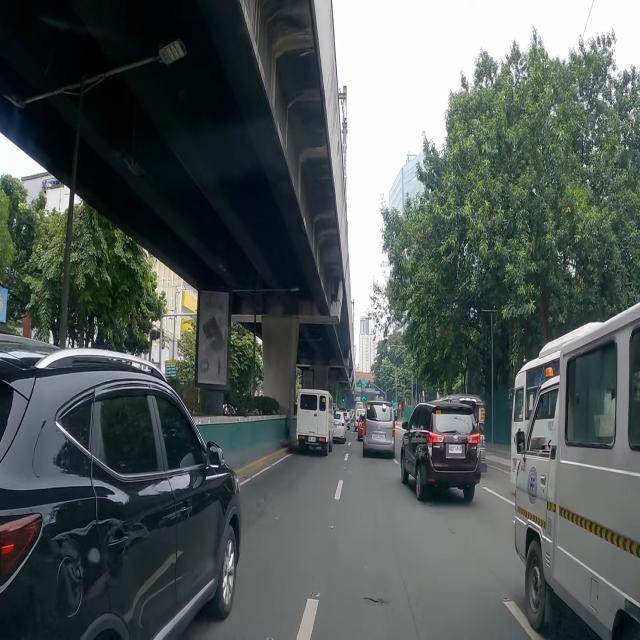bus: (510, 322, 604, 496), (356, 402, 364, 413)
car: (0, 334, 241, 639), (398, 402, 482, 501), (362, 402, 396, 456), (333, 410, 347, 442)
jeepney: (436, 394, 486, 472)
truck: (514, 302, 640, 640), (296, 388, 333, 456)
